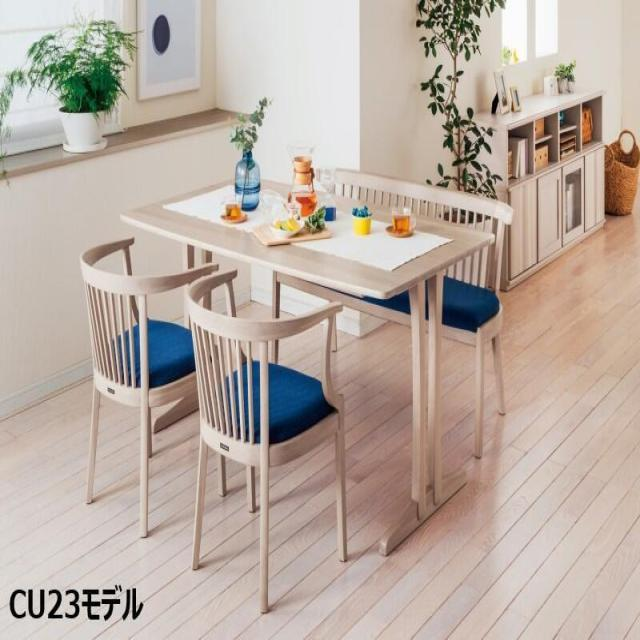white chair: (178, 262, 341, 607), (82, 241, 220, 544)
white desk: (110, 150, 488, 560)
